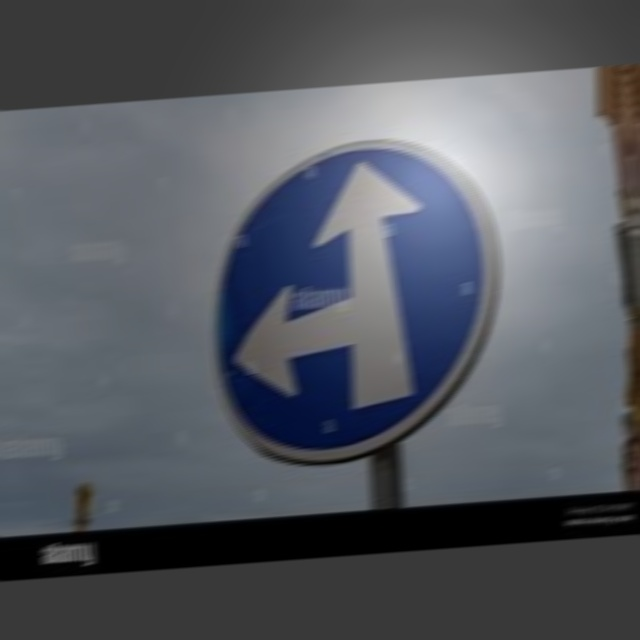Compulsory_Ahead_or_Turn_Left: (207, 134, 507, 462)
